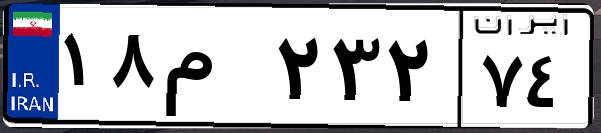1: (57, 26, 110, 100)
2: (270, 28, 330, 110), (385, 28, 445, 110)
3: (330, 28, 385, 110)
4: (525, 38, 570, 115)
7: (475, 38, 525, 113)
8: (110, 28, 158, 98)
م: (158, 20, 270, 120)
